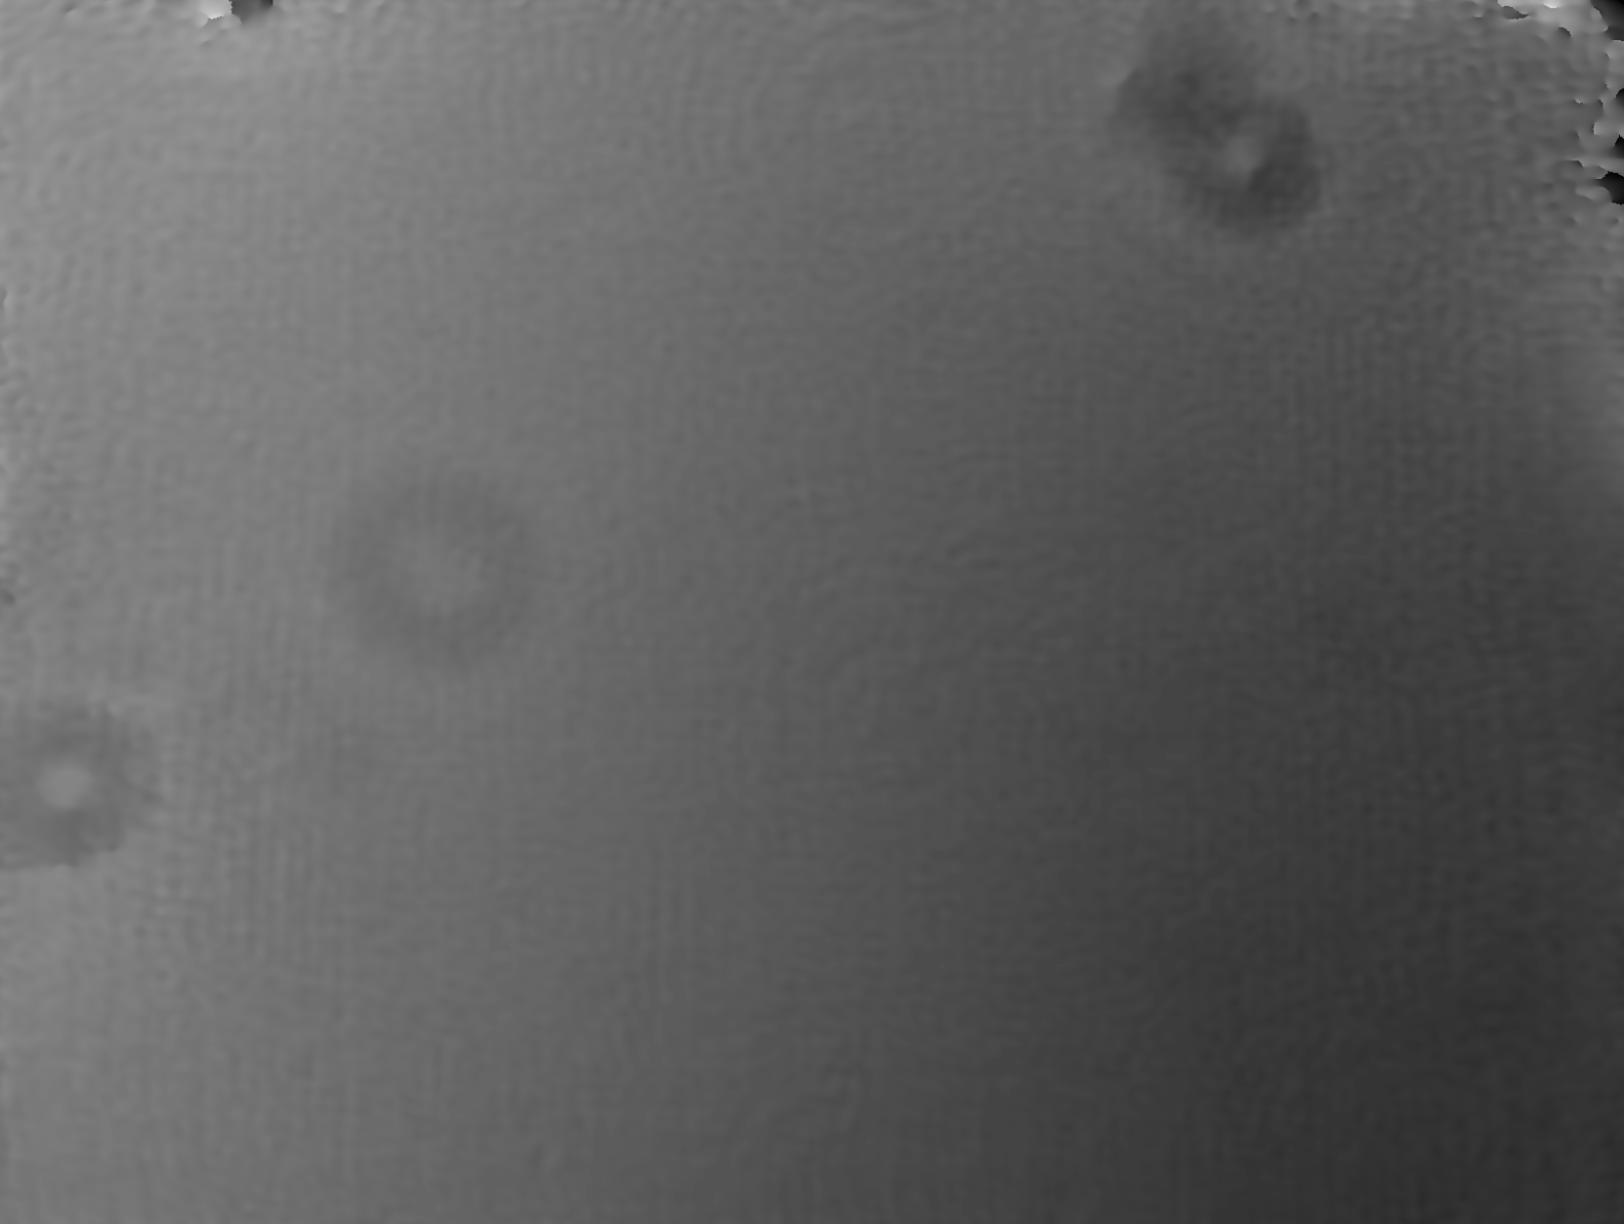cell: (291, 424, 577, 719), (1070, 1, 1357, 292), (1, 649, 186, 906)
